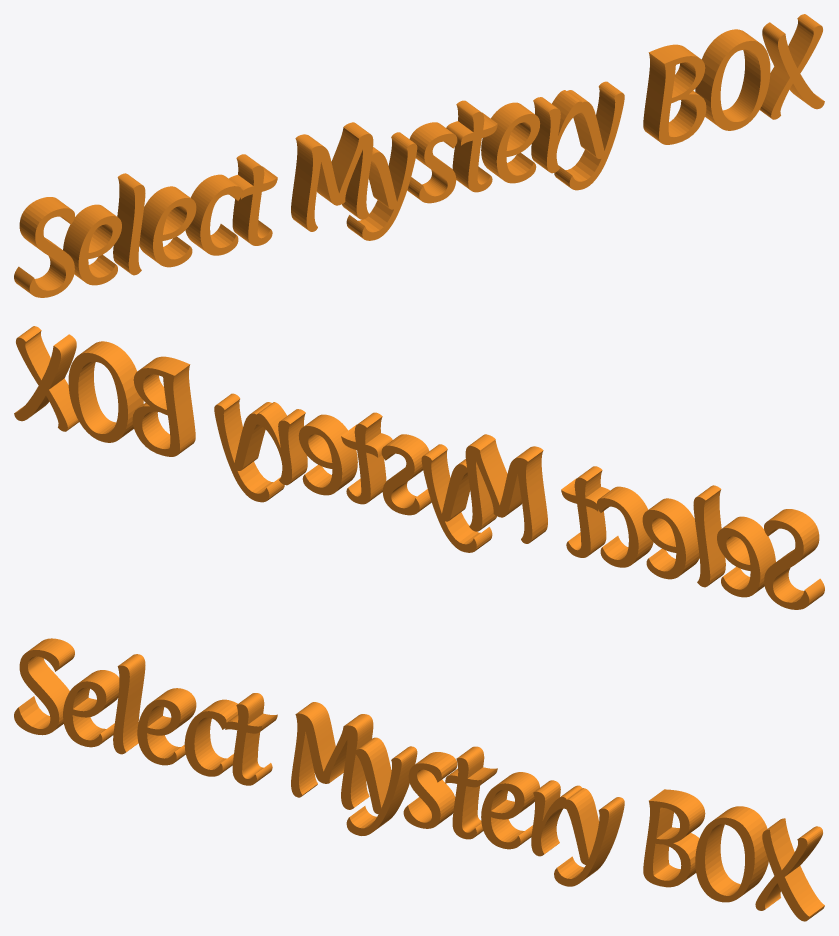
The model's file is select.glb.
3 renders of one model, top to bottom at view 1: azimuth 30°, elevation 25°; view 2: azimuth 150°, elevation 25°; view 3: azimuth 330°, elevation 25°, orthographic.
Visible parts, largest first — view 1: 3D Text - e (×3), 3D Text - y (×2), 3D Text - M, 3D Text - t (×2), 3D Text - B, 3D Text - O, 3D Text - X, 3D Text - S, 3D Text - c, 3D Text - s, 3D Text - r, 3D Text - l; view 2: 3D Text - e (×3), 3D Text - y (×2), 3D Text - M, 3D Text - t (×2), 3D Text - B, 3D Text - O, 3D Text - X, 3D Text - S, 3D Text - c, 3D Text - s, 3D Text - r, 3D Text - l; view 3: 3D Text - e (×3), 3D Text - y (×2), 3D Text - M, 3D Text - t (×2), 3D Text - B, 3D Text - O, 3D Text - X, 3D Text - S, 3D Text - s, 3D Text - c, 3D Text - l, 3D Text - r.
Boxes of the visible parts, <box> form: 3D Text - e (×3): <box>63,102,540,285</box>; 3D Text - y (×2): <box>346,81,624,240</box>; 3D Text - M: <box>291,122,373,231</box>; 3D Text - t (×2): <box>229,100,497,245</box>; 3D Text - B: <box>643,44,706,144</box>; 3D Text - O: <box>695,29,770,130</box>; 3D Text - X: <box>760,14,824,119</box>; 3D Text - S: <box>14,197,74,297</box>; 3D Text - c: <box>185,174,242,255</box>; 3D Text - s: <box>407,122,457,203</box>; 3D Text - r: <box>531,90,583,173</box>; 3D Text - l: <box>113,173,145,275</box>; 3D Text - e (×3): <box>298,414,775,597</box>; 3D Text - y (×2): <box>214,393,492,552</box>; 3D Text - M: <box>465,434,547,543</box>; 3D Text - t (×2): <box>341,412,609,557</box>; 3D Text - B: <box>132,356,195,456</box>; 3D Text - O: <box>68,341,143,442</box>; 3D Text - X: <box>14,326,78,431</box>; 3D Text - S: <box>764,509,824,609</box>; 3D Text - c: <box>596,486,653,567</box>; 3D Text - s: <box>381,434,431,515</box>; 3D Text - r: <box>255,402,307,485</box>; 3D Text - l: <box>693,485,725,587</box>; 3D Text - e (×3): <box>63,670,539,849</box>; 3D Text - y (×2): <box>346,737,624,886</box>; 3D Text - M: <box>291,702,373,809</box>; 3D Text - t (×2): <box>225,693,497,839</box>; 3D Text - B: <box>643,789,705,887</box>; 3D Text - O: <box>695,806,768,902</box>; 3D Text - X: <box>755,818,824,921</box>; 3D Text - S: <box>14,638,74,735</box>; 3D Text - s: <box>403,752,457,828</box>; 3D Text - c: <box>184,699,237,776</box>; 3D Text - l: <box>113,654,145,754</box>; 3D Text - r: <box>531,780,581,856</box>.
Bounding box in the file's own units: 0.4405 × 0.0595 × 0.015.
